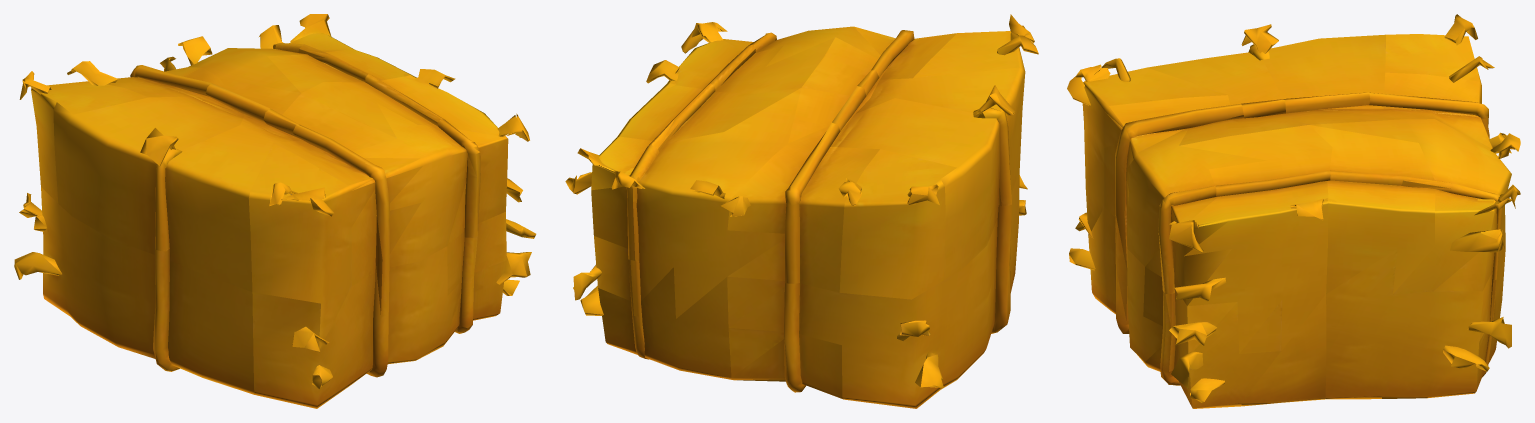
File: haybale.glb
3 renders of one model, left to right at view 1: azimuth 30°, elevation 25°; view 2: azimuth 150°, elevation 25°; view 3: azimuth 270°, elevation 25°, orthographic. The views are drawn at different scales.
Size of the model in its own units: 0.9785 by 0.5977 by 1.
1 material, 1 textured.
